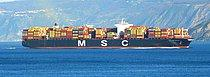Ship: (19, 22, 196, 52)
